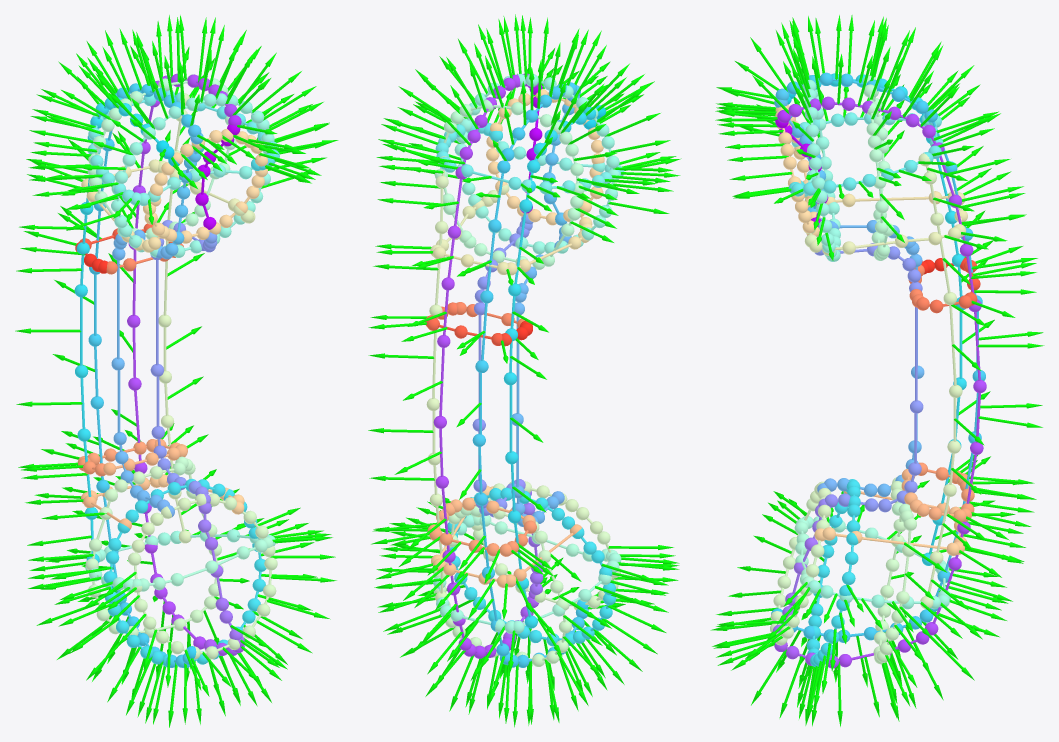
File: flowrep_phone.gltf
The picture shows the model from 3 angles, left to right: view 1: azimuth 30°, elevation 25°; view 2: azimuth 150°, elevation 25°; view 3: azimuth 270°, elevation 25°; orthographic projection.
Bounding box in the file's own units: 0.4615 × 1.11 × 0.4934.
